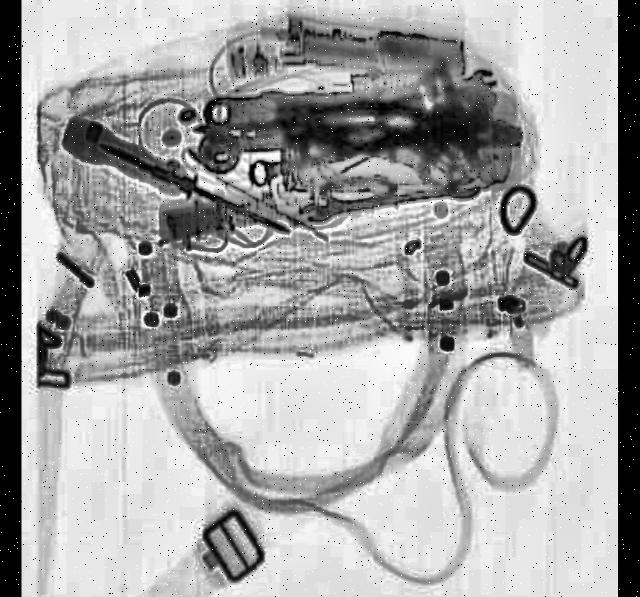Wrench: (424, 68, 499, 104)
